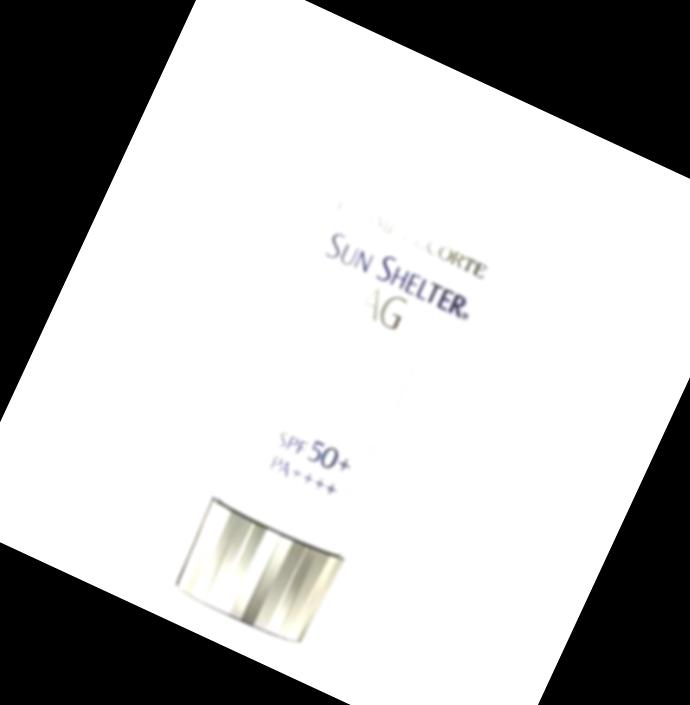cosmetic: (142, 83, 557, 664)
